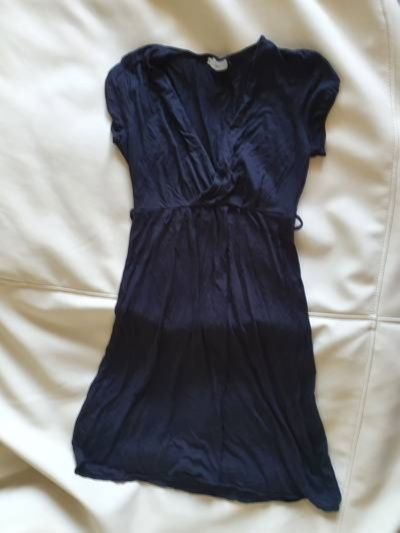Dress: (65, 28, 356, 488)
